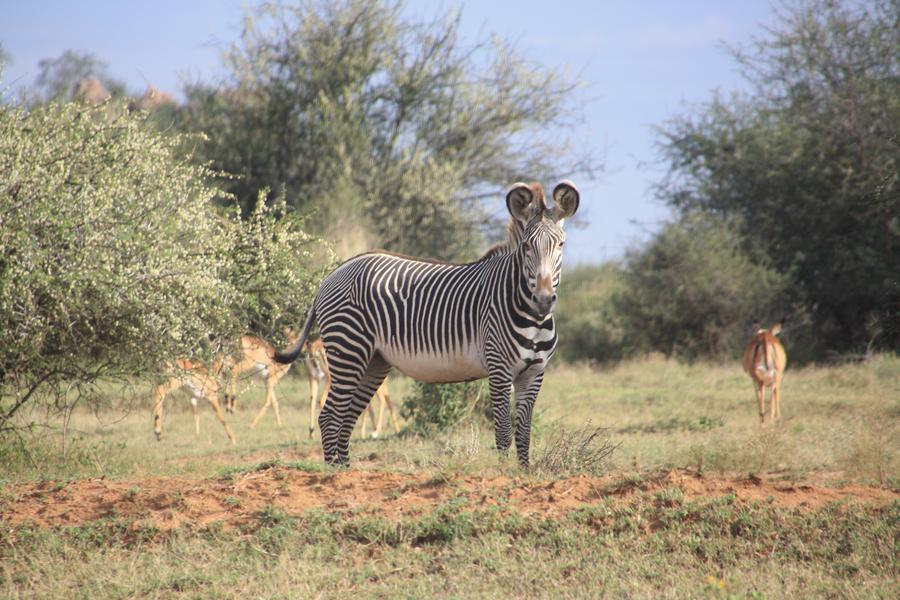zebra_grevys: (308, 232, 528, 371)
